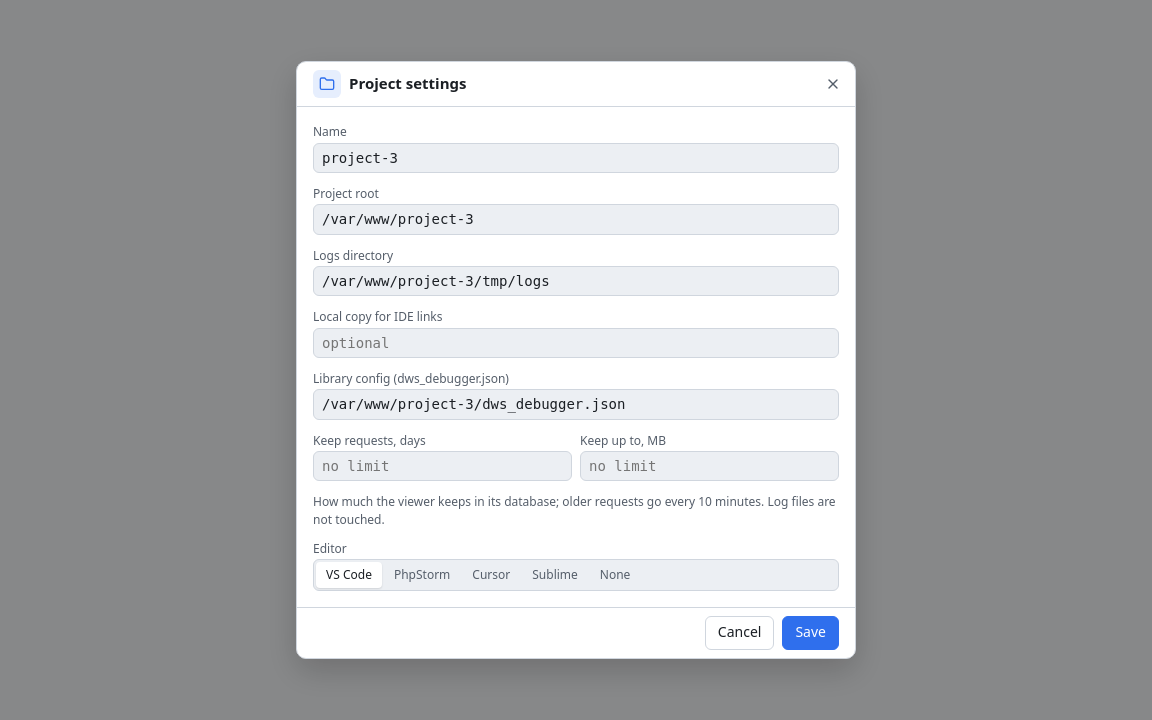
Scenario: ProjectDialog › shows the server answer when saving fails
The width and height of the screenshot is (1152, 720).
What coordinates should you click on to do the following:
click the button "Save"
I would click on:
 (811, 633)
Its box is x1=782 y1=616 x2=839 y2=650.
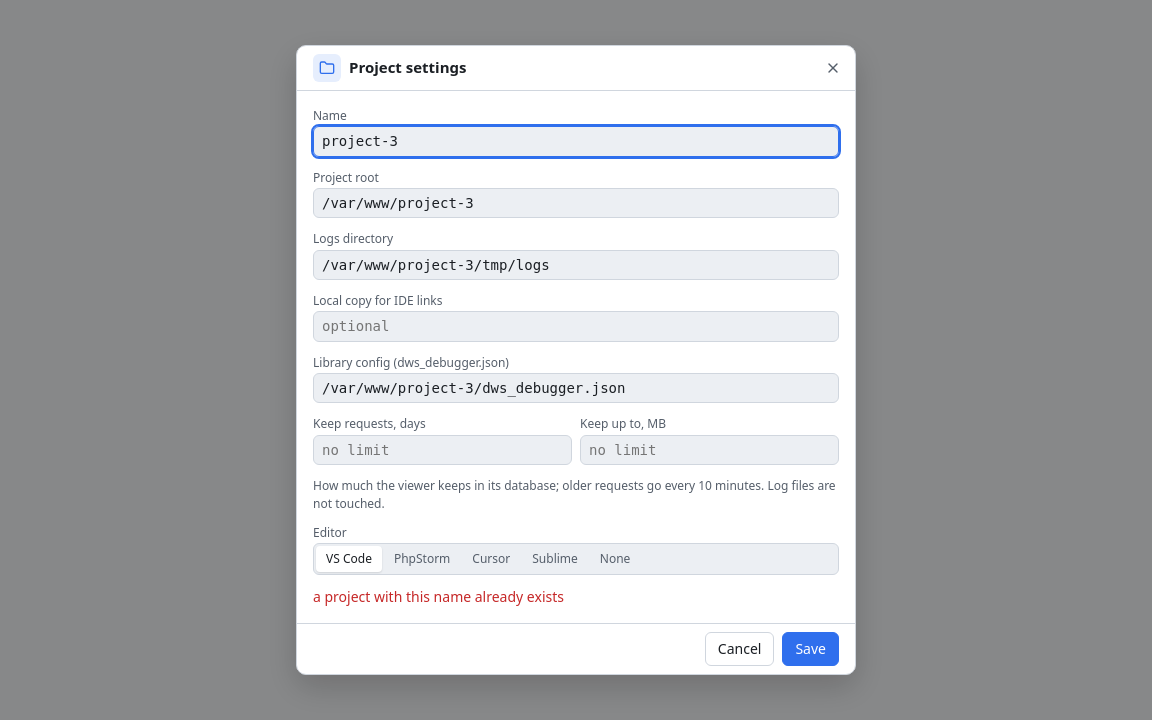
Now the message reads "a project with this name already exists", box x1=313 y1=587 x2=564 y2=606
